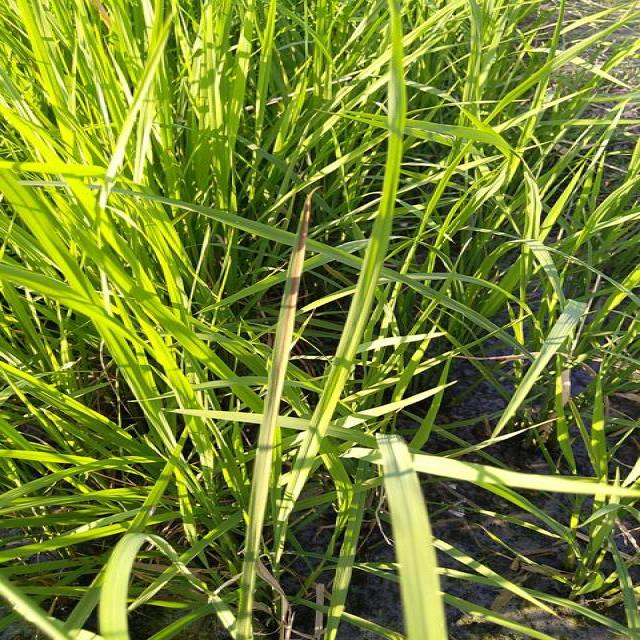Leaf Streak: (245, 194, 311, 561)
